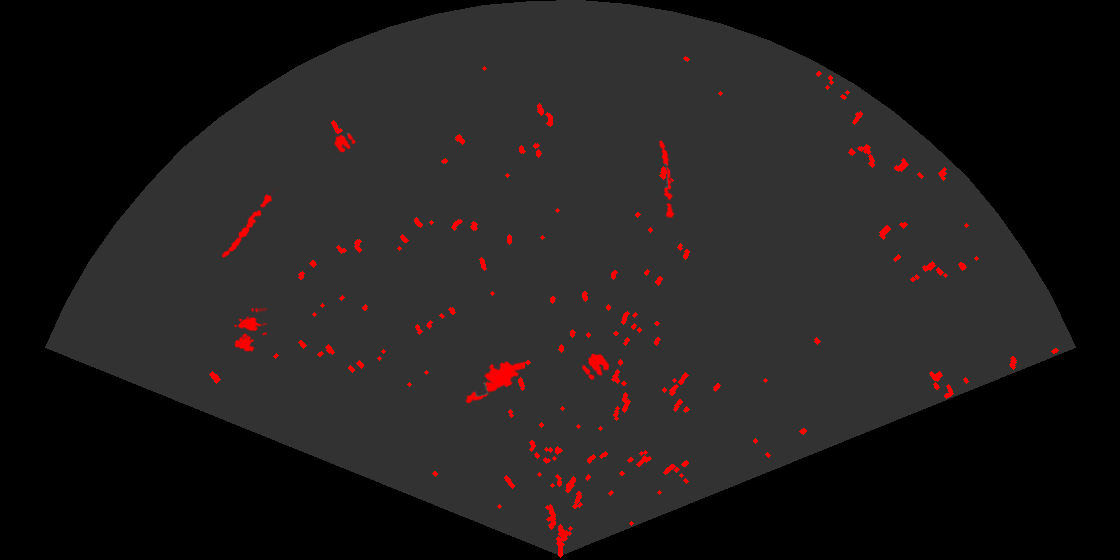ball: (580, 352, 611, 381), (332, 132, 357, 154)
cage: (232, 308, 267, 353)
chain: (220, 189, 277, 259), (658, 138, 676, 218)
frogman: (464, 360, 525, 405)
